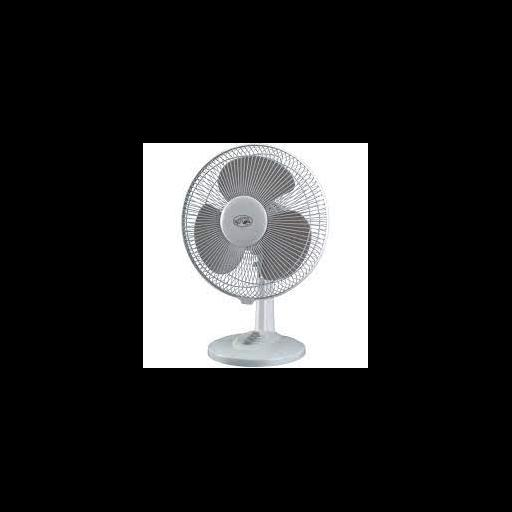Fan: (182, 145, 329, 302)
